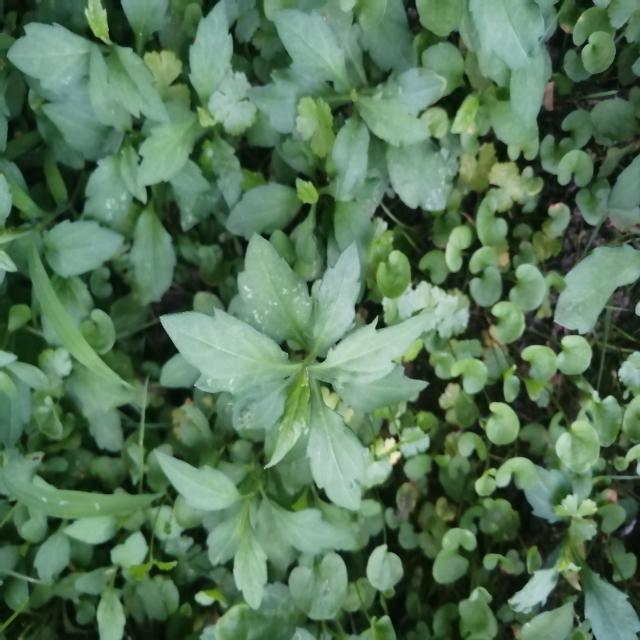Indian aster: (189, 233, 427, 500)
